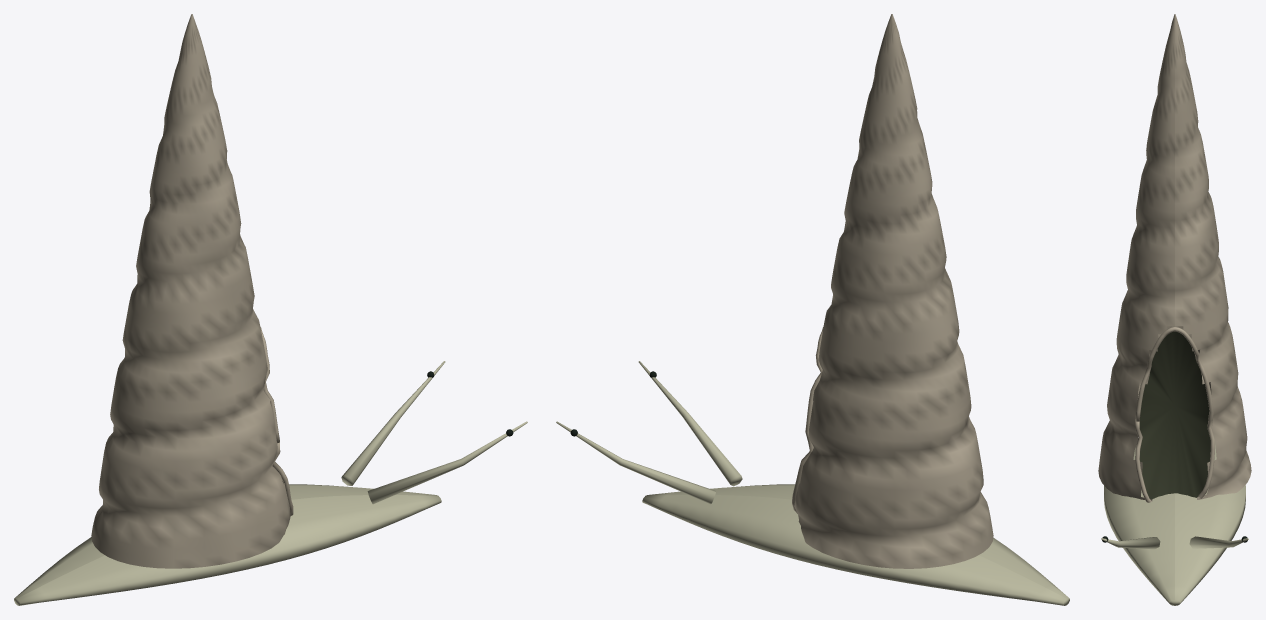
Rendered from cerith-mobile.glb.
3 views of the same model, side by side, from view 1: azimuth 30°, elevation 25°; view 2: azimuth 150°, elevation 25°; view 3: azimuth 270°, elevation 25° (orthographic). The views are drawn at different scales.
Visible parts, largest first — view 1: connected-whorled-shell, muscular-foot, cephalic-tentacle, aperture-lip; view 2: connected-whorled-shell, muscular-foot, cephalic-tentacle, aperture-lip; view 3: connected-whorled-shell, muscular-foot, recessed-aperture, aperture-lip, cephalic-tentacle.
Part boxes in pixels (box(x1,y1,x2,y2)): connected-whorled-shell: box(91, 14, 290, 568); muscular-foot: box(14, 484, 441, 605); cephalic-tentacle: box(341, 361, 527, 504); aperture-lip: box(260, 327, 293, 515); connected-whorled-shell: box(794, 14, 993, 568); muscular-foot: box(642, 484, 1069, 605); cephalic-tentacle: box(556, 361, 742, 504); aperture-lip: box(792, 327, 823, 514); connected-whorled-shell: box(1098, 14, 1251, 500); muscular-foot: box(1104, 442, 1245, 605); recessed-aperture: box(1139, 331, 1210, 499); aperture-lip: box(1135, 326, 1214, 502); cephalic-tentacle: box(1101, 536, 1248, 549).
Bounding box in the file's own units: 0.5905 × 0.659 × 0.1885.
